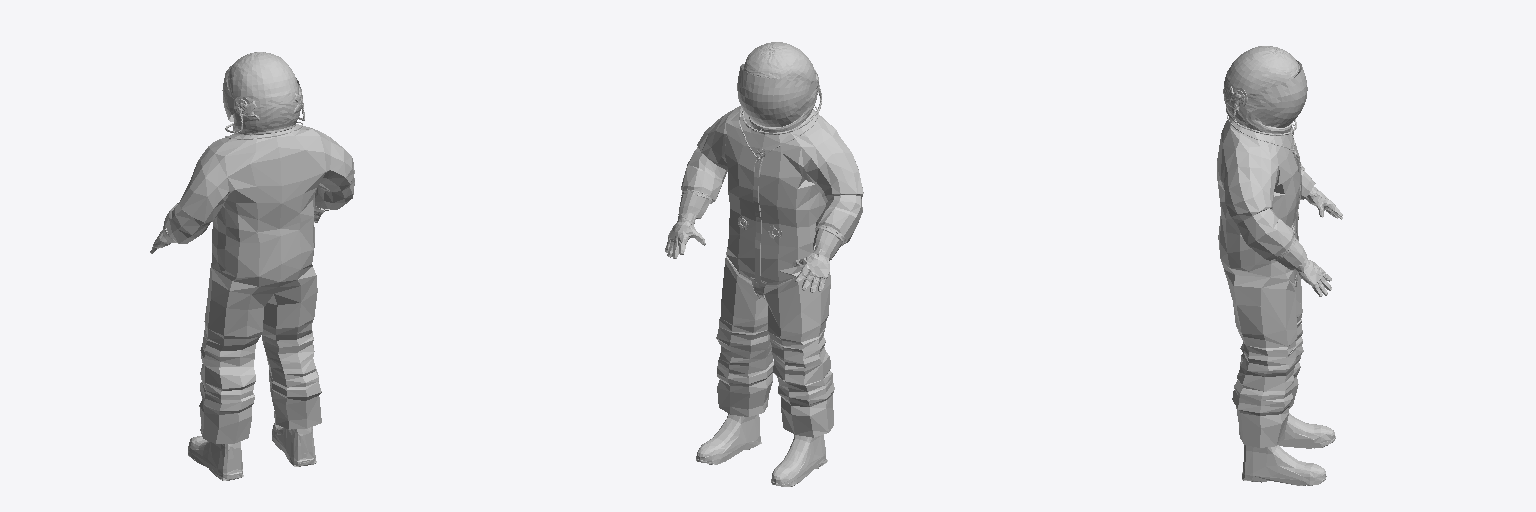
File: astronaut.obj
3 views of the same model, side by side, from view 1: azimuth 30°, elevation 25°; view 2: azimuth 150°, elevation 25°; view 3: azimuth 270°, elevation 25° (orthographic).
Visible parts, largest first — view 1: acesjustforroomshow:ACES_INTERIOR_OBJ_polySurface1_acesjust.040, acesjustforroomshow:ACES_INTERIOR_OBJ_polySurface1_acesjust.020, acesjustforroomshow:ACES_INTERIOR_OBJ_polySurface1_acesjust.014, acesjustforroomshow:ACES_INTERIOR_OBJ_polySurface1_acesjust.039; view 2: acesjustforroomshow:ACES_INTERIOR_OBJ_polySurface1_acesjust.040, acesjustforroomshow:ACES_INTERIOR_OBJ_polySurface1_acesjust.027, acesjustforroomshow:ACES_INTERIOR_OBJ_polySurface1_acesjust.020, acesjustforroomshow:ACES_INTERIOR_OBJ_polySurface1_acesjust.039, acesjustforroomshow:ACES_INTERIOR_OBJ_polySurface1_acesjust.014, acesjustforroomshow:ACES_INTERIOR_OBJ_polySurface1_acesjust.010, acesjustforroomshow:ACES_INTERIOR_OBJ_polySurface1_acesjust.026, acesjustforroomshow:ACES_INTERIOR_OBJ_polySurface1_acesjust.005, acesjustforroomshow:ACES_INTERIOR_OBJ_polySurface1_acesjust.012; view 3: acesjustforroomshow:ACES_INTERIOR_OBJ_polySurface1_acesjust.040, acesjustforroomshow:ACES_INTERIOR_OBJ_polySurface1_acesjust.020, acesjustforroomshow:ACES_INTERIOR_OBJ_polySurface1_acesjust.039, acesjustforroomshow:ACES_INTERIOR_OBJ_polySurface1_acesjust.027, acesjustforroomshow:ACES_INTERIOR_OBJ_polySurface1_acesjust.014, acesjustforroomshow:ACES_INTERIOR_OBJ_polySurface1_acesjust.005, acesjustforroomshow:ACES_INTERIOR_OBJ_polySurface1_acesjust.010, acesjustforroomshow:ACES_INTERIOR_OBJ_polySurface1_acesjust.026.
Boxes of the visible parts, box(x1,y1,x2,y2) form: acesjustforroomshow:ACES_INTERIOR_OBJ_polySurface1_acesjust.040: box(165, 124, 354, 443); acesjustforroomshow:ACES_INTERIOR_OBJ_polySurface1_acesjust.020: box(228, 52, 299, 135); acesjustforroomshow:ACES_INTERIOR_OBJ_polySurface1_acesjust.014: box(188, 436, 243, 480); acesjustforroomshow:ACES_INTERIOR_OBJ_polySurface1_acesjust.039: box(272, 423, 316, 466); acesjustforroomshow:ACES_INTERIOR_OBJ_polySurface1_acesjust.040: box(681, 106, 863, 437); acesjustforroomshow:ACES_INTERIOR_OBJ_polySurface1_acesjust.027: box(737, 64, 817, 126); acesjustforroomshow:ACES_INTERIOR_OBJ_polySurface1_acesjust.020: box(743, 42, 816, 132); acesjustforroomshow:ACES_INTERIOR_OBJ_polySurface1_acesjust.039: box(696, 413, 761, 464); acesjustforroomshow:ACES_INTERIOR_OBJ_polySurface1_acesjust.014: box(771, 435, 827, 486); acesjustforroomshow:ACES_INTERIOR_OBJ_polySurface1_acesjust.010: box(678, 191, 841, 259); acesjustforroomshow:ACES_INTERIOR_OBJ_polySurface1_acesjust.026: box(792, 246, 830, 292); acesjustforroomshow:ACES_INTERIOR_OBJ_polySurface1_acesjust.005: box(665, 213, 705, 258); acesjustforroomshow:ACES_INTERIOR_OBJ_polySurface1_acesjust.012: box(753, 163, 761, 283); acesjustforroomshow:ACES_INTERIOR_OBJ_polySurface1_acesjust.040: box(1217, 117, 1303, 447); acesjustforroomshow:ACES_INTERIOR_OBJ_polySurface1_acesjust.020: box(1223, 46, 1299, 133); acesjustforroomshow:ACES_INTERIOR_OBJ_polySurface1_acesjust.039: box(1242, 445, 1326, 485); acesjustforroomshow:ACES_INTERIOR_OBJ_polySurface1_acesjust.027: box(1243, 60, 1307, 127); acesjustforroomshow:ACES_INTERIOR_OBJ_polySurface1_acesjust.014: box(1278, 413, 1335, 448); acesjustforroomshow:ACES_INTERIOR_OBJ_polySurface1_acesjust.005: box(1296, 257, 1331, 296); acesjustforroomshow:ACES_INTERIOR_OBJ_polySurface1_acesjust.010: box(1275, 172, 1315, 269); acesjustforroomshow:ACES_INTERIOR_OBJ_polySurface1_acesjust.026: box(1306, 186, 1342, 219).
Bounding box in the file's own units: 445 × 1000 × 278.